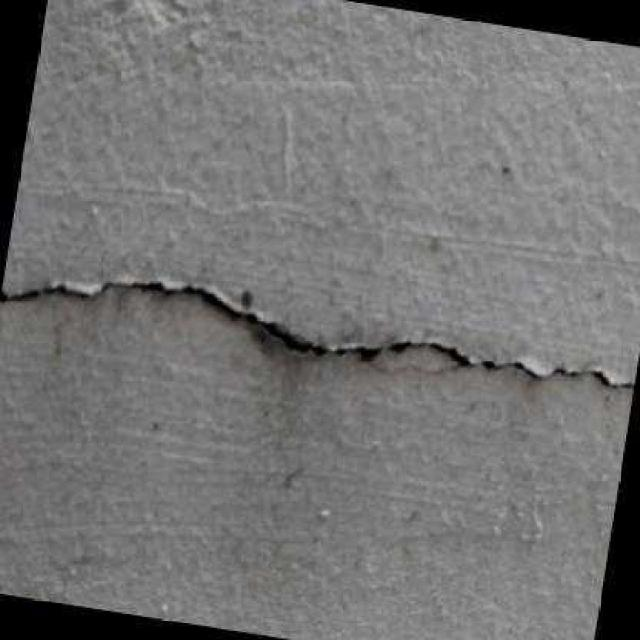D00: (0, 282, 634, 390)
